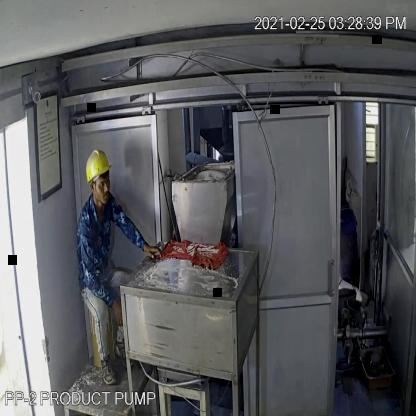helmet: (84, 147, 114, 193)
